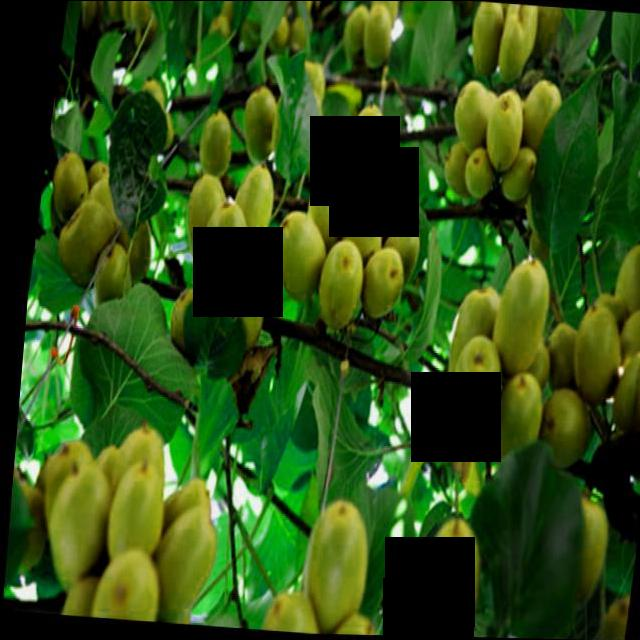kiwi: (41, 468, 124, 606), (296, 498, 376, 636), (144, 509, 222, 628), (103, 429, 168, 560), (419, 518, 488, 638), (548, 498, 613, 618), (485, 258, 550, 377), (104, 465, 170, 580), (36, 445, 99, 561), (441, 289, 502, 405), (49, 203, 116, 299), (147, 483, 215, 577), (190, 205, 249, 312), (445, 335, 502, 444), (486, 372, 544, 479), (564, 306, 621, 411), (263, 214, 325, 308), (92, 548, 167, 624), (213, 261, 267, 364), (174, 176, 227, 277), (260, 93, 318, 181), (80, 449, 131, 548), (161, 290, 213, 387), (310, 240, 362, 335), (330, 190, 383, 282), (223, 166, 272, 265), (336, 105, 384, 206), (439, 85, 494, 169), (534, 391, 590, 473), (538, 326, 592, 410), (364, 221, 418, 305), (296, 181, 346, 270), (5, 488, 52, 581), (603, 244, 640, 362), (84, 245, 133, 334), (581, 294, 626, 383), (230, 86, 276, 172), (100, 210, 150, 289), (320, 171, 362, 265), (359, 179, 407, 259), (509, 84, 557, 164), (475, 91, 519, 178), (352, 252, 402, 325), (236, 239, 279, 323), (42, 157, 87, 235), (273, 65, 319, 141), (489, 6, 531, 84), (188, 114, 230, 188), (123, 81, 161, 162), (496, 343, 549, 401), (607, 310, 640, 403), (458, 4, 498, 80), (434, 143, 480, 202), (262, 594, 326, 636), (608, 354, 640, 438), (491, 145, 533, 208), (349, 6, 386, 76), (76, 183, 118, 244), (61, 578, 115, 621), (330, 8, 364, 72), (454, 146, 488, 203), (599, 598, 630, 640), (116, 2, 147, 41), (332, 613, 380, 637), (359, 2, 391, 31), (109, 2, 139, 32), (94, 2, 123, 32)
